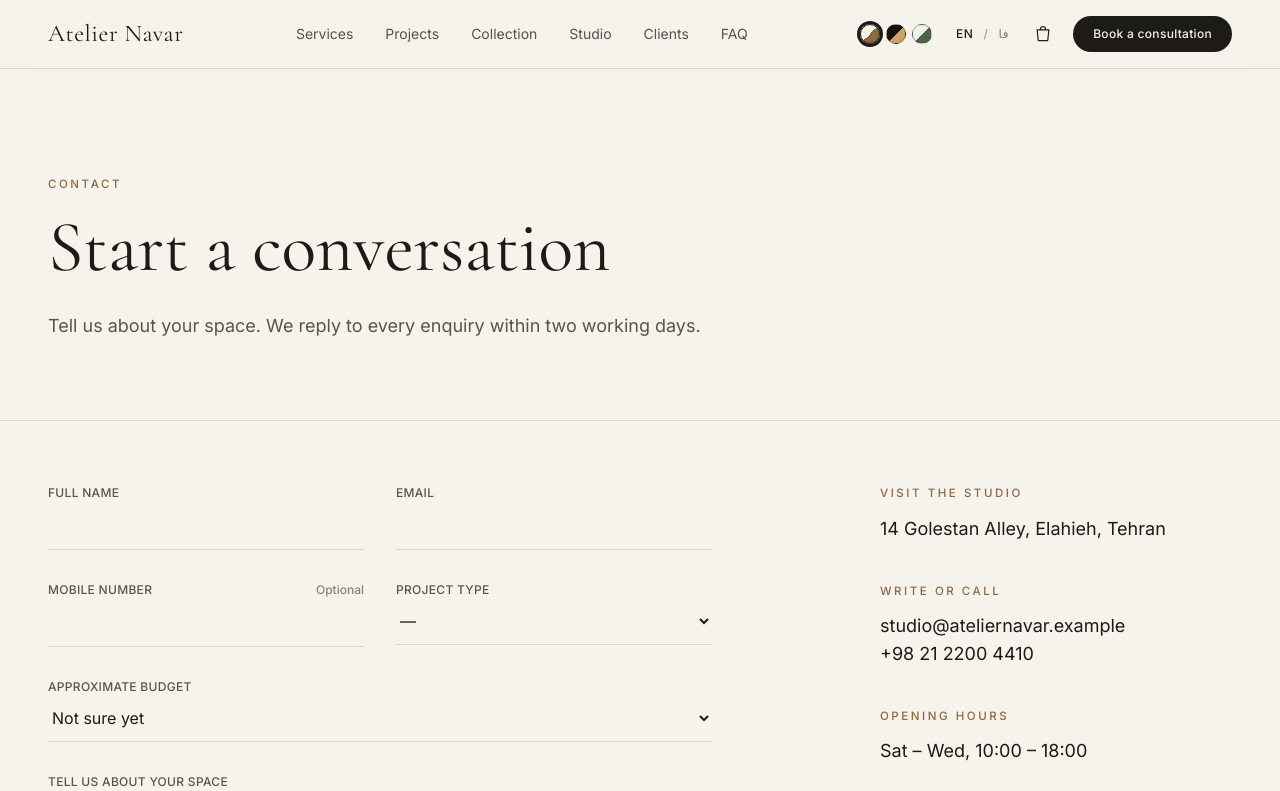
Scenario: contact form with the API › shows an error and does not claim success when the API rejects the lead
Type "Sara Ahmadi" into the field labelled "Full name" at (206, 526), box [48,501,364,550]
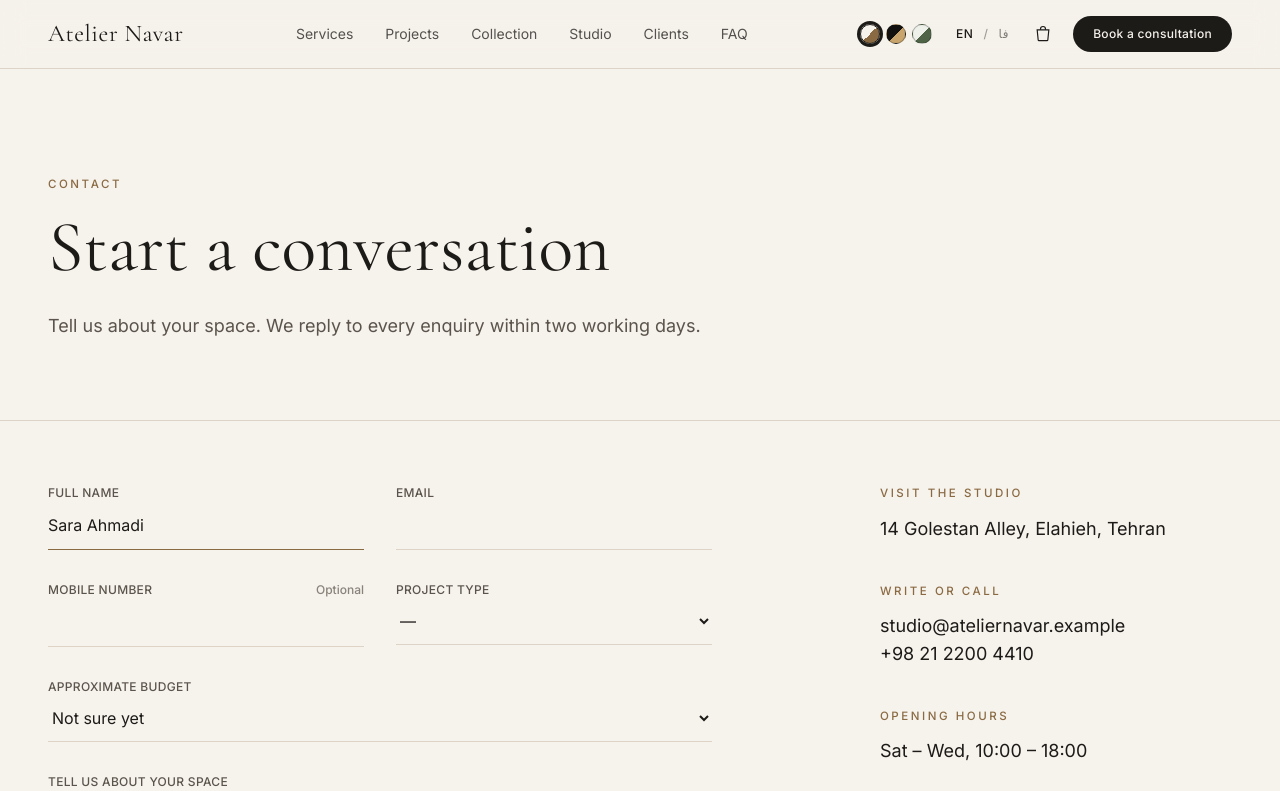
Type "sara@example.com" into the field labelled "Email" at (554, 526), box [396,501,712,550]
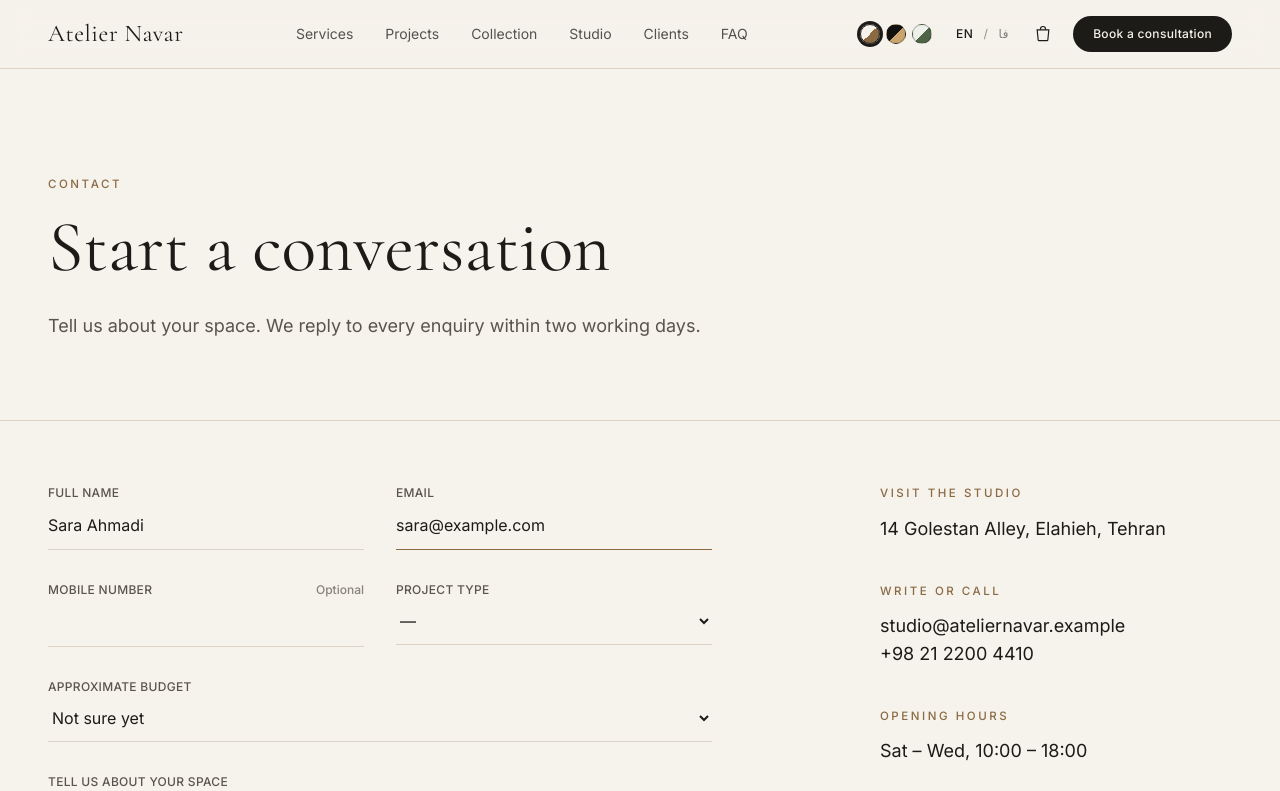
Select "Residential interior" in the dropdown labelled "Project type" at (554, 622), box [396,598,712,645]
(page scrolled)
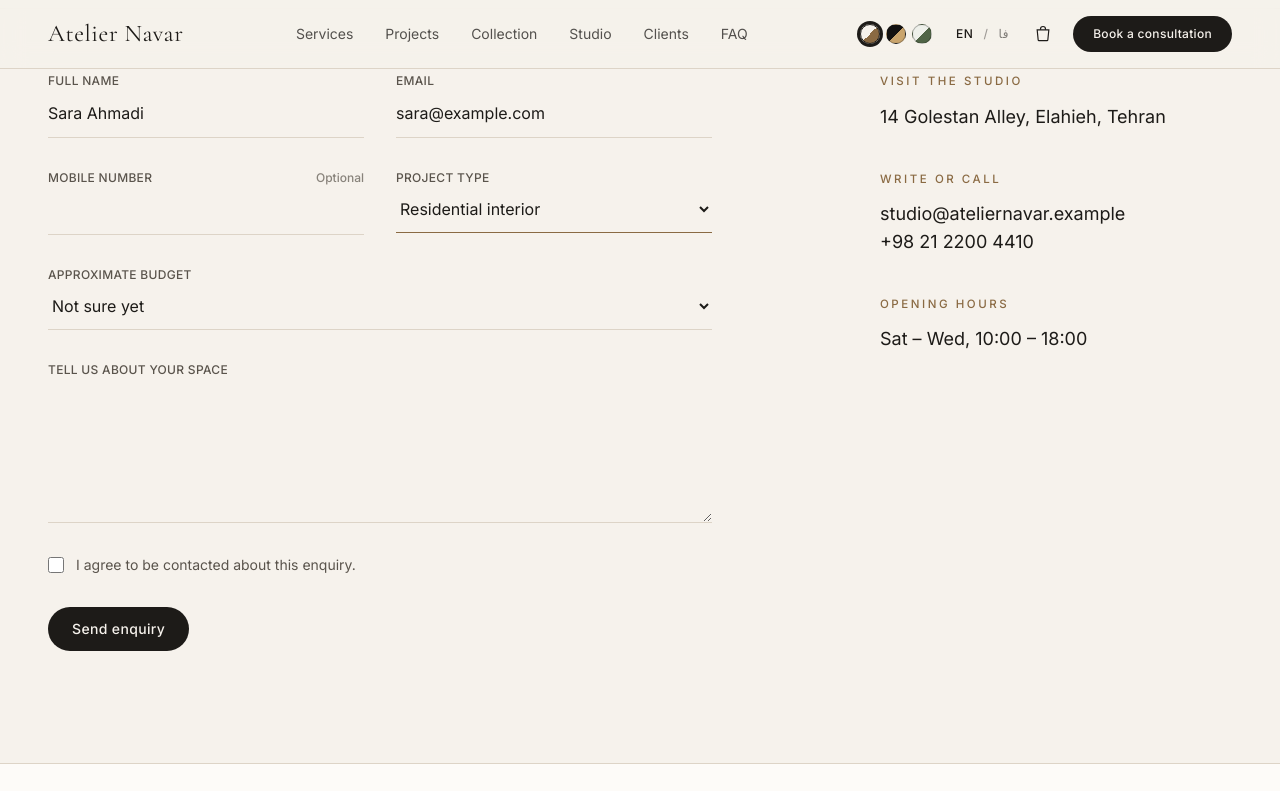
Type "A two-bedroom apartment in need of a calmer living room." into the text box labelled "Tell us about your space" at (380, 451), box [48,378,712,523]
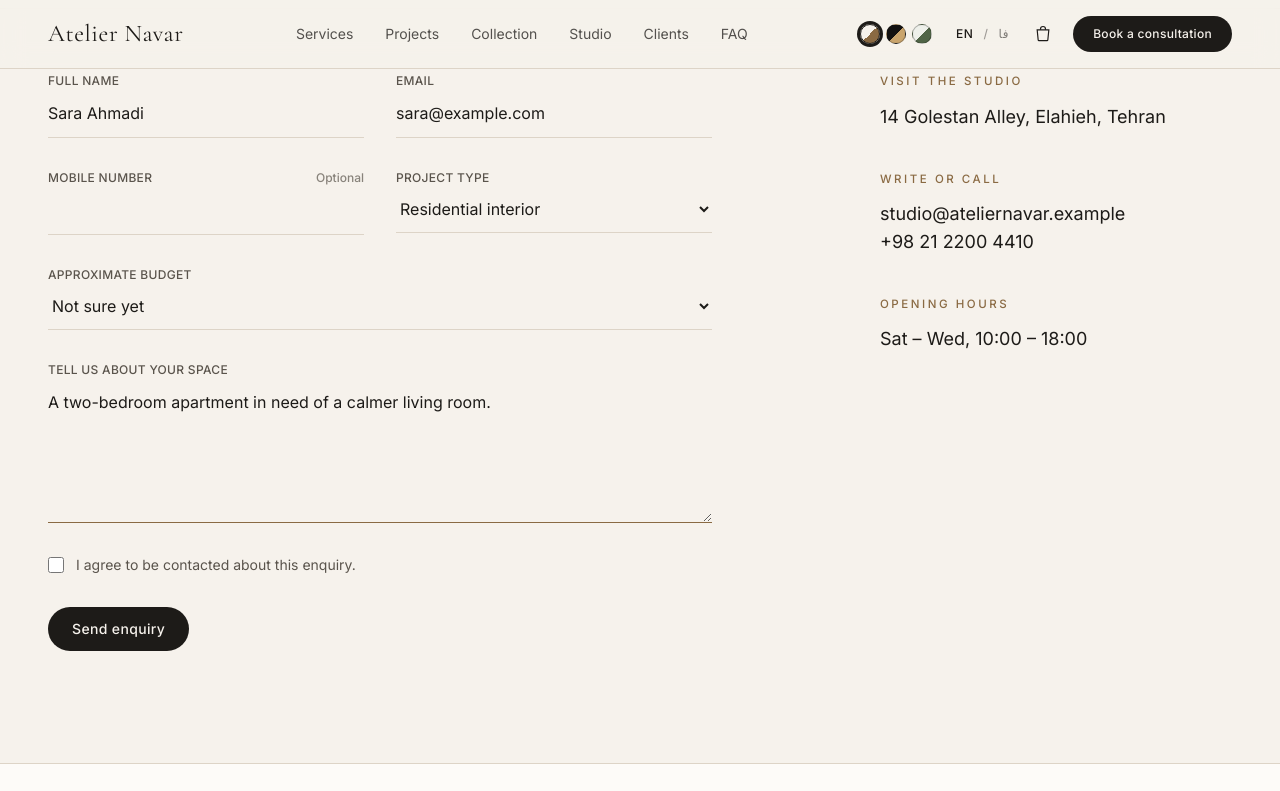
Click the checkbox labelled "I agree to be contacted about this enquiry." at (56, 565), box [48,557,64,573]
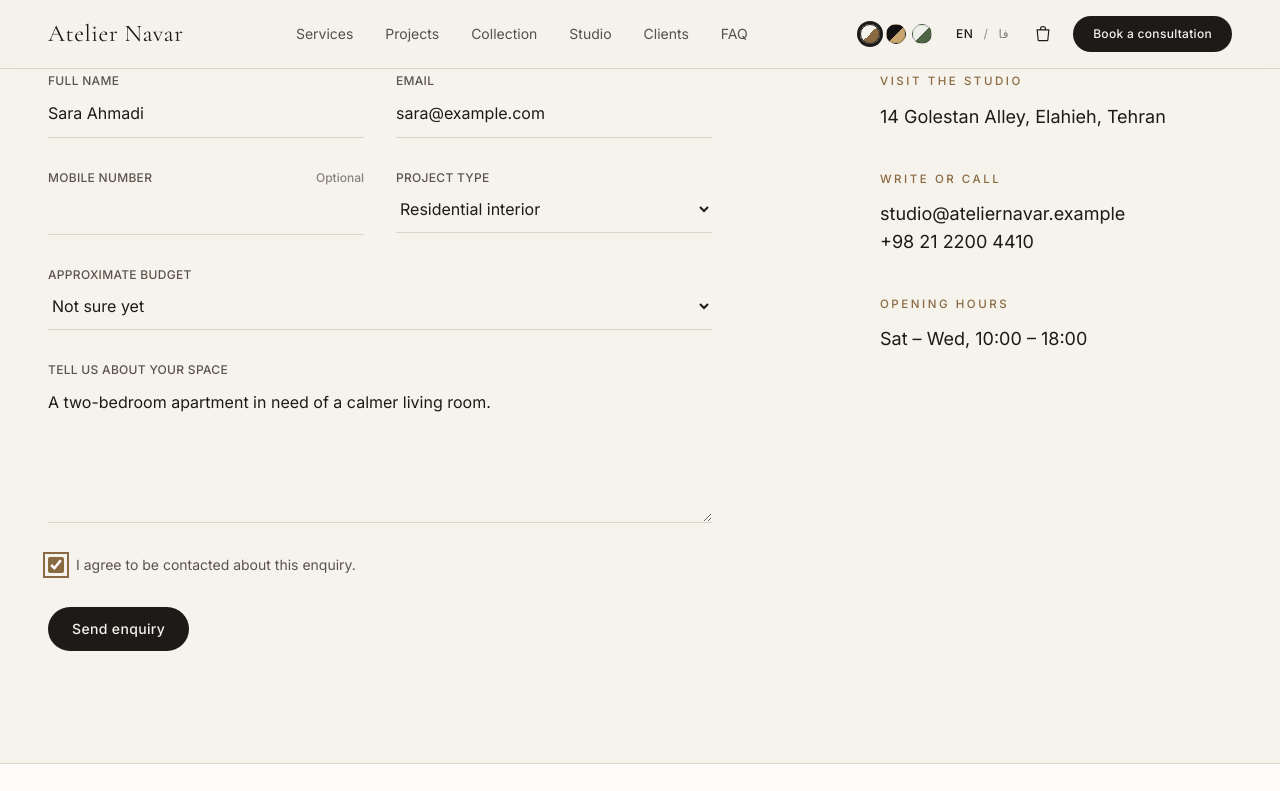
Click the button "Send enquiry" at (119, 629), box [48,607,189,651]
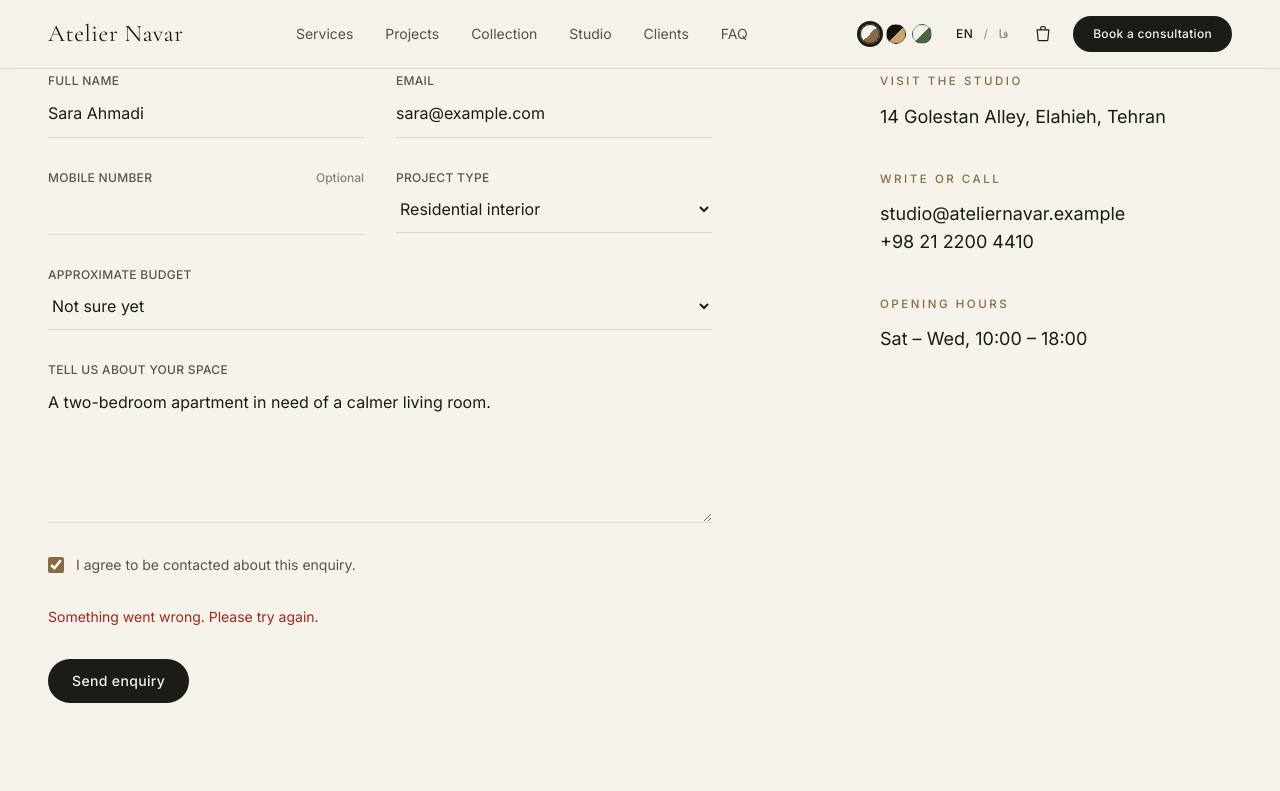
Now the text "Something went wrong. Please try again." is shown, box [48,608,319,625]
